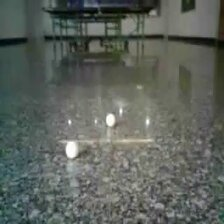w: (64, 141, 80, 157), (105, 113, 116, 127)
